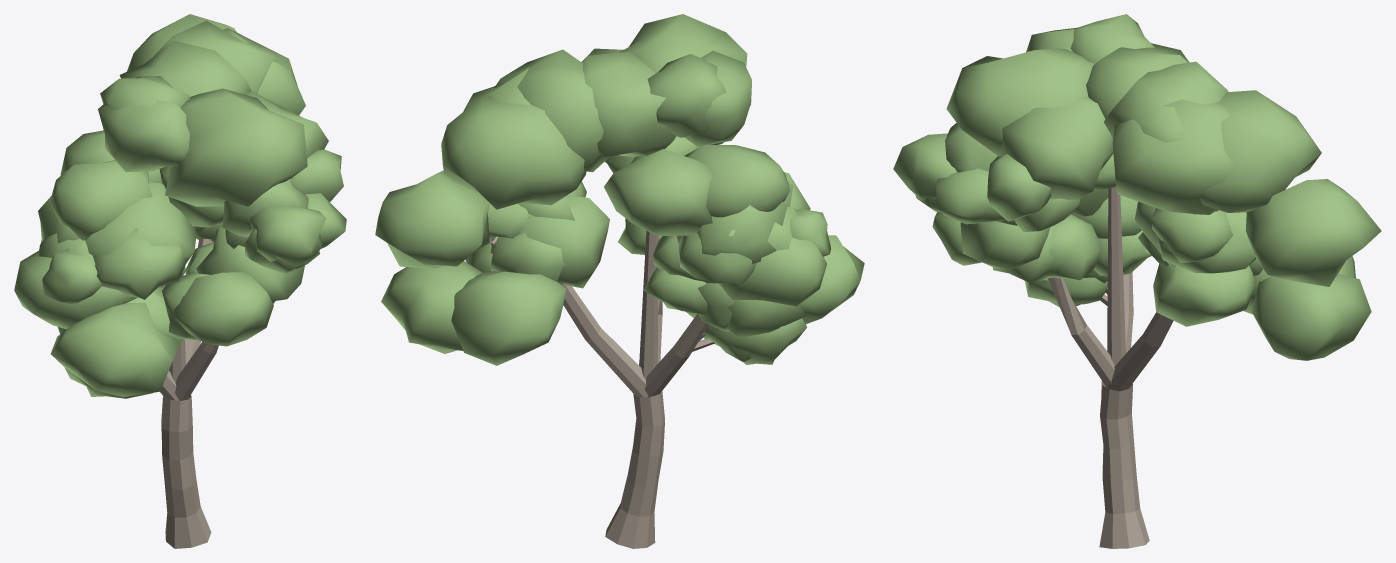
The model's file is Blender_Cottonwood_1.glb.
3 renders of one model, left to right at view 1: azimuth 30°, elevation 25°; view 2: azimuth 150°, elevation 25°; view 3: azimuth 270°, elevation 25°, orthographic. The views are drawn at different scales.
Parts seen in each view (by area): view 1: Blender_Cottonwood_1; view 2: Blender_Cottonwood_1; view 3: Blender_Cottonwood_1.
Part boxes in pixels (x1=…): Blender_Cottonwood_1: x1=14, y1=14, x2=346, y2=548; Blender_Cottonwood_1: x1=375, y1=14, x2=864, y2=548; Blender_Cottonwood_1: x1=893, y1=14, x2=1381, y2=548.
Size of the model in its own units: 18.62 by 25.63 by 22.73.
